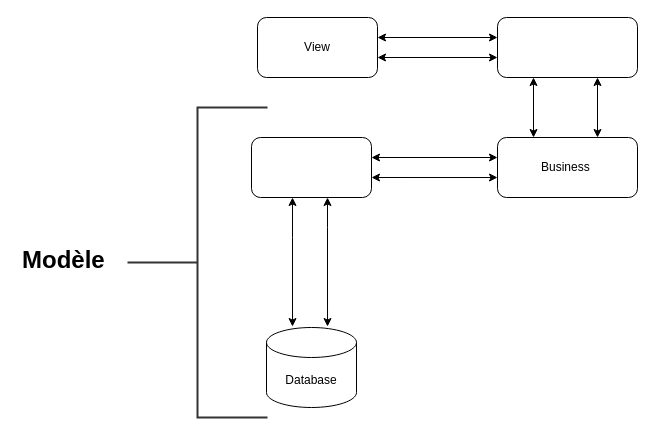
Some shapes in this 655 by 436 pixel diagram are drawn without their labels. Here are the shapes that lost their labels. From the top down, the centre of each, then its label:
At [567,47]: "Controller".
At [311,167]: "CRUD with DML".
